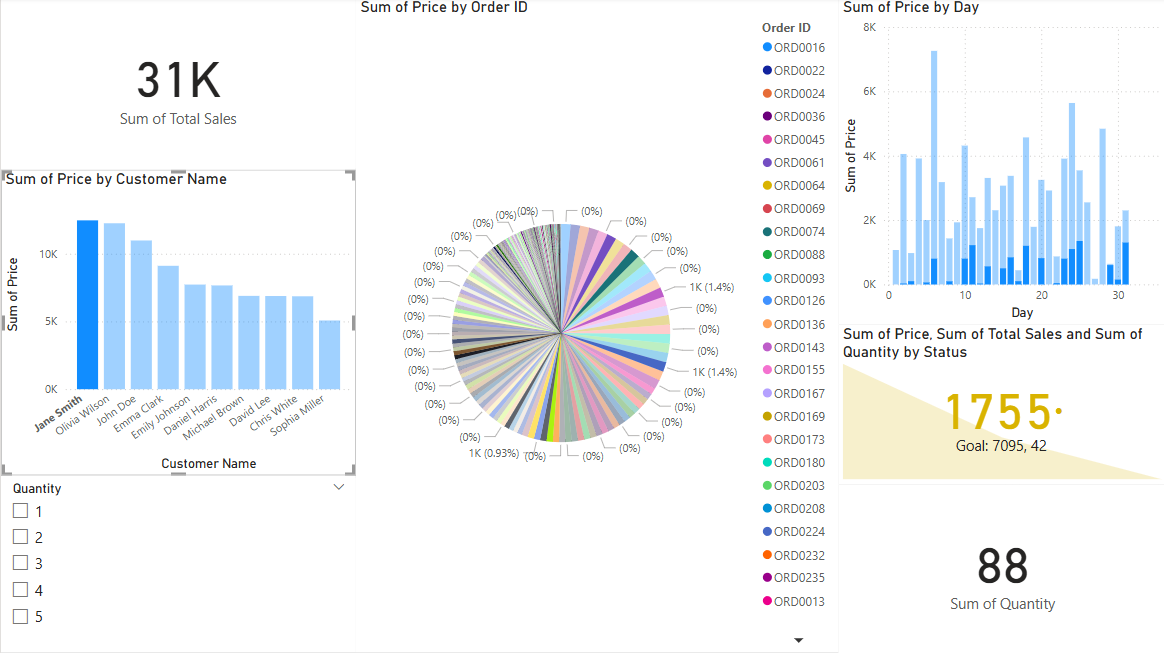

This screenshot's page, from the dashboard's own definition file:
{"tool":"powerbi","page":{"name":"Page 1","canvas":[1280,720],"ordinal":0},"visuals":[{"type":"columnChart","fields":{"Category":["sales csv.Customer Name"],"Y":["Sum(sales csv.Price)"]},"box":[0,189.4,389.7,336.2],"z":0},{"type":"card","fields":{"Values":["Sum(sales csv.Total Sales)"]},"box":[0,0,389.7,189.4],"z":1000},{"type":"card","fields":{"Values":["Sum(sales csv.Quantity)"]},"box":[919.4,535.2,360.9,185.2],"z":2000},{"type":"clusteredColumnChart","fields":{"Y":["Sum(sales csv.Price)"],"Category":["sales csv.Date.Variation.Date Hierarchy.Day"]},"box":[919.4,0,360.9,359.5],"z":3000},{"type":"pieChart","fields":{"Category":["sales csv.Order ID"],"Y":["Sum(sales csv.Price)"]},"box":[389.7,0,529.7,719],"z":4000},{"type":"slicer","fields":{"Values":["sales csv.Quantity"]},"box":[0,525.6,389.7,193.5],"z":4001},{"type":"kpi","fields":{"Indicator":["Sum(sales csv.Price)"],"Goal":["Sum(sales csv.Total Sales)","Sum(sales csv.Quantity)"],"TrendLine":["sales csv.Status"]},"box":[919.4,359.5,360.9,175.6],"z":4002}]}

Visuals, with their boxes in screenshot pixels (x1, y1, x2, y2), scaled from the page's 1280x720 canvas onto the 1164x653 screenshot:
columnChart - sales csv.Customer Name x Sum(sales csv.Price): (0, 172, 354, 477)
card - Sum(sales csv.Total Sales): (0, 0, 354, 172)
card - Sum(sales csv.Quantity): (836, 485, 1163, 652)
clusteredColumnChart - Sum(sales csv.Price) x sales csv.Date.Variation.Date Hierarchy.Day: (836, 0, 1163, 326)
pieChart - sales csv.Order ID x Sum(sales csv.Price): (354, 0, 836, 652)
slicer - sales csv.Quantity: (0, 477, 354, 652)
kpi - Sum(sales csv.Price) x Sum(sales csv.Total Sales): (836, 326, 1163, 485)
